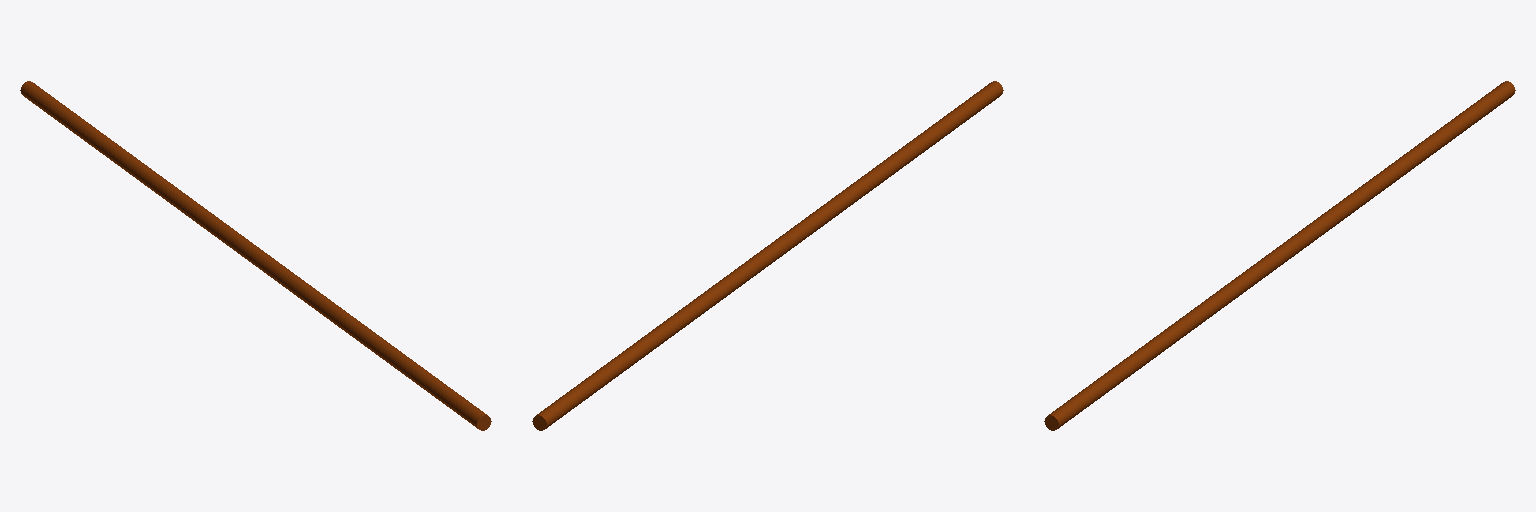
robot.urdf — cylinder:
<?xml version="1.0" ?>
<!-- =================================================================================== -->
<!-- |    This document was autogenerated by xacro from cylinder.xacro                 | -->
<!-- |    EDITING THIS FILE BY HAND IS NOT RECOMMENDED                                 | -->
<!-- =================================================================================== -->
<robot name="cylinder">
  <link name="world"/>
  <link name="base">
    <visual>
      <origin rpy="1.57079633 0 0" xyz="0 0 0"/>
      <geometry>
        <cylinder length="7.07106781185" radius="0.065"/>
      </geometry>
      <material name="cylinder_material">
        <color rgba="0.545 0.271 0.075 1.0"/>
        <texture filename="../textures/tree_bark.jpg"/>
      </material>
    </visual>
    <collision>
      <origin rpy="1.57079633 0 0" xyz="0 0 0"/>
      <geometry>
        <cylinder length="7.07106781185" radius="0.065"/>
      </geometry>
    </collision>
    <inertial>
      <origin rpy="0 0 0" xyz="0 0 0"/>
      <mass value="1"/>
      <inertia ixx="4.167722916648429" ixy="0.0" ixz="0.0" iyy="4.167722916648429" iyz="0.0" izz="24.999999999890573"/>
    </inertial>
  </link>
  <joint name="base_joint" type="fixed">
    <parent link="world"/>
    <child link="base"/>
    <origin rpy="0 0 0" xyz="0.0 0.0 0.0"/>
  </joint>
</robot>

--- What the picture shows (computed from the rendered views, not written in the file) ---
Views: 3 orthographic renders of the robot side by side, from view 1: azimuth 30°, elevation 25°; view 2: azimuth 150°, elevation 25°; view 3: azimuth 330°, elevation 25°.
Robot: cylinder — 2 links, 1 joints (1 fixed); root link world; default pose: all joints at 0.
Links seen in each view (by area): view 1: base; view 2: base; view 3: base.
Boxes of the visible links, bbox=[...] form: base: bbox=[20, 81, 491, 430]; base: bbox=[532, 81, 1003, 430]; base: bbox=[1044, 81, 1515, 430].
Size in the robot's own frame: 0.13 by 7.07 by 0.13 metres.
Geometry: primitives only (box / cylinder / sphere), no mesh files.
